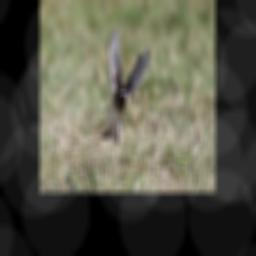Swallow: (100, 27, 151, 144)
